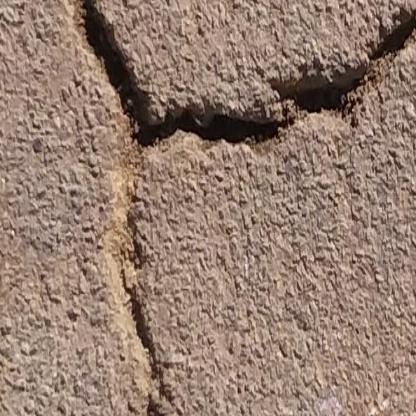Cracks: (74, 0, 296, 416), (267, 0, 416, 119)
